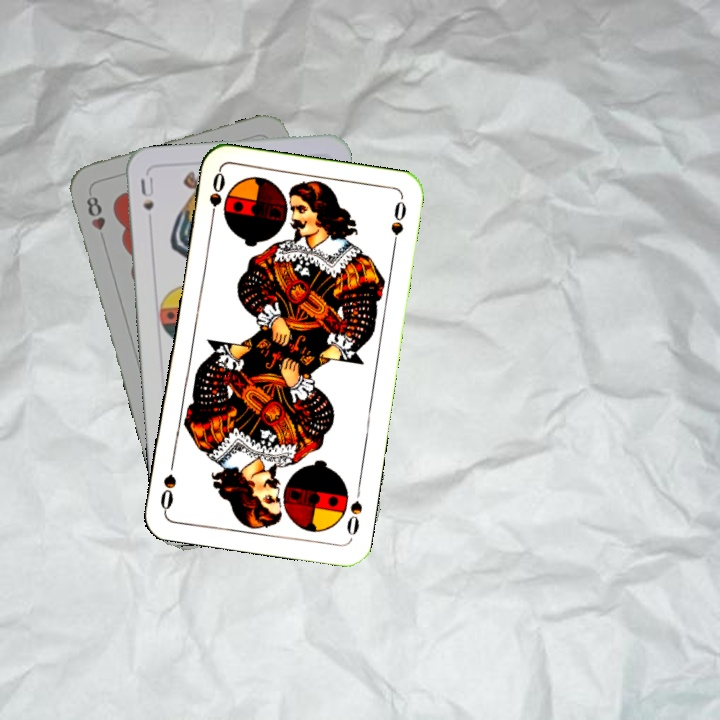H8: (82, 192, 109, 246)
SO: (205, 168, 228, 227), (342, 482, 365, 541)
SU: (136, 172, 157, 213)
